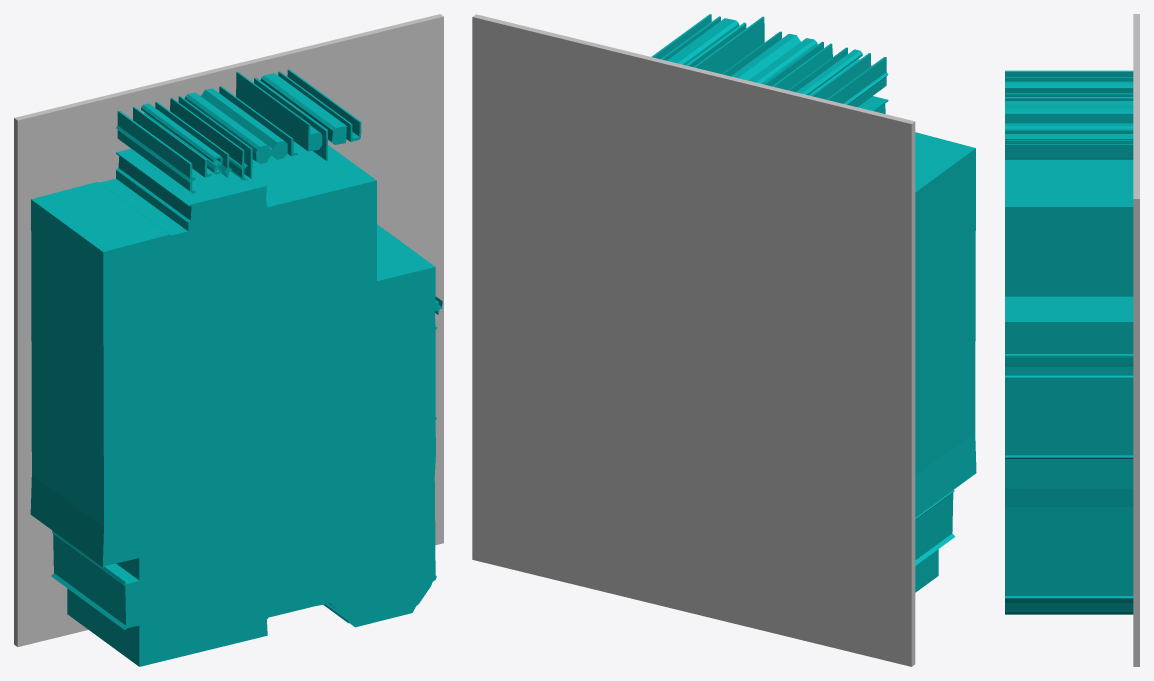
The picture shows the model from 3 angles, left to right: view 1: azimuth 30°, elevation 25°; view 2: azimuth 150°, elevation 25°; view 3: azimuth 270°, elevation 25°; orthographic projection. The views are drawn at different scales.
Parts seen in each view (by area): view 1: world; view 2: world; view 3: world.
Part boxes in pixels (x1,y1,x2,y2): world: [14, 14, 443, 666]; world: [472, 14, 976, 666]; world: [1005, 14, 1139, 666].
Size of the model in its own units: 10.23 by 12.08 by 3.15.
